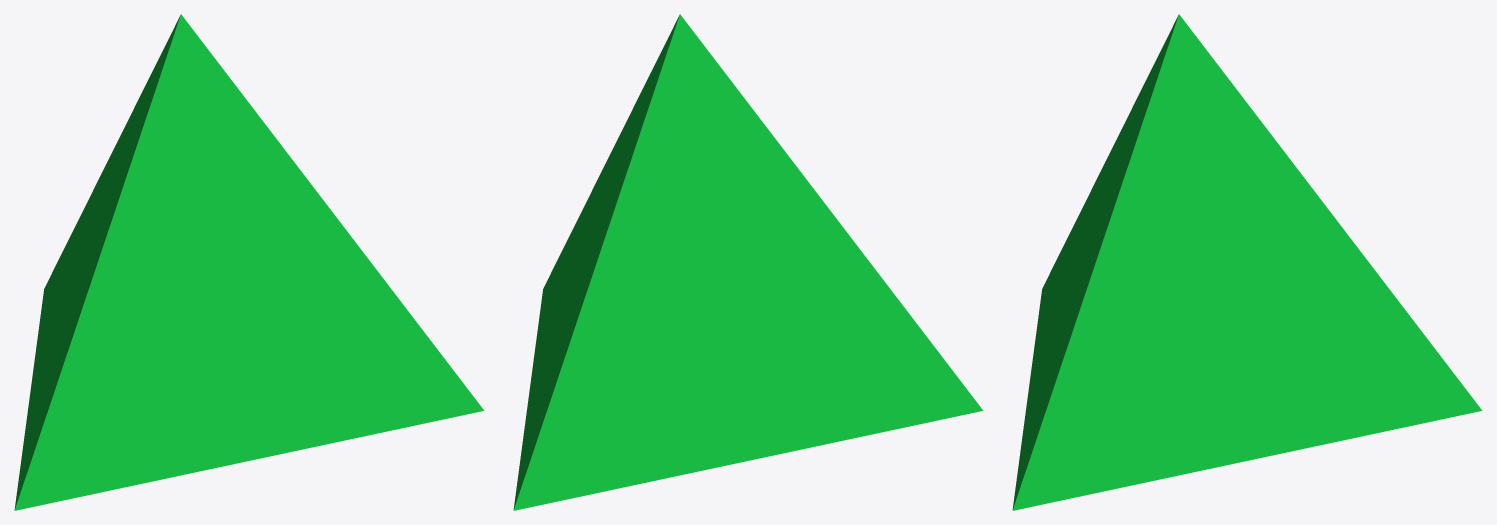
3 views of the same model, side by side, from view 1: azimuth 30°, elevation 25°; view 2: azimuth 150°, elevation 25°; view 3: azimuth 270°, elevation 25° (orthographic).
Parts seen in each view (by area): view 1: node_id4; view 2: node_id4; view 3: node_id4.
Boxes of the visible parts, x1=… form: node_id4: x1=14, y1=14, x2=484, y2=510; node_id4: x1=513, y1=14, x2=983, y2=510; node_id4: x1=1012, y1=14, x2=1482, y2=510.
Bounding box in the file's own units: 0.5903 × 0.4827 × 0.5279.
1 material, 1 textured.
